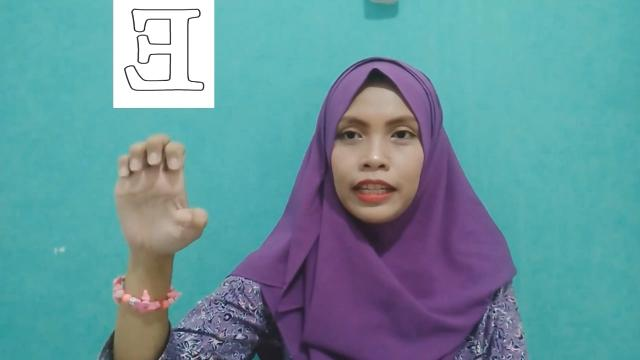E: (115, 132, 209, 256)
